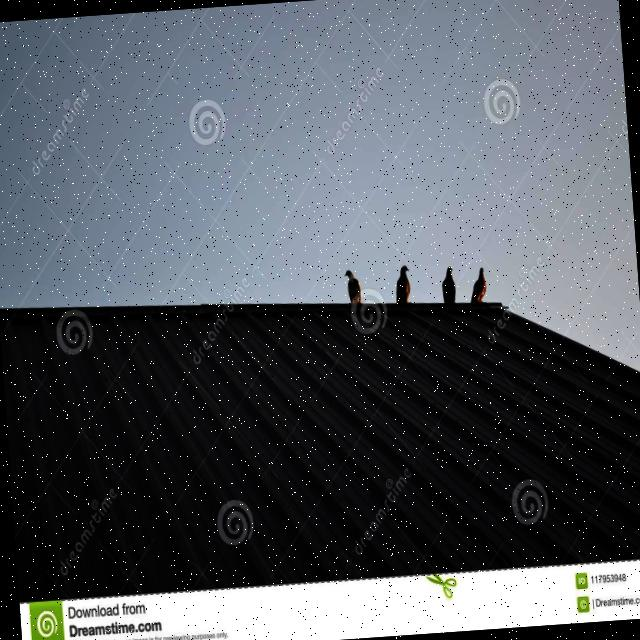bird: (467, 264, 488, 306), (392, 264, 412, 306), (343, 267, 363, 308), (440, 264, 458, 306)
